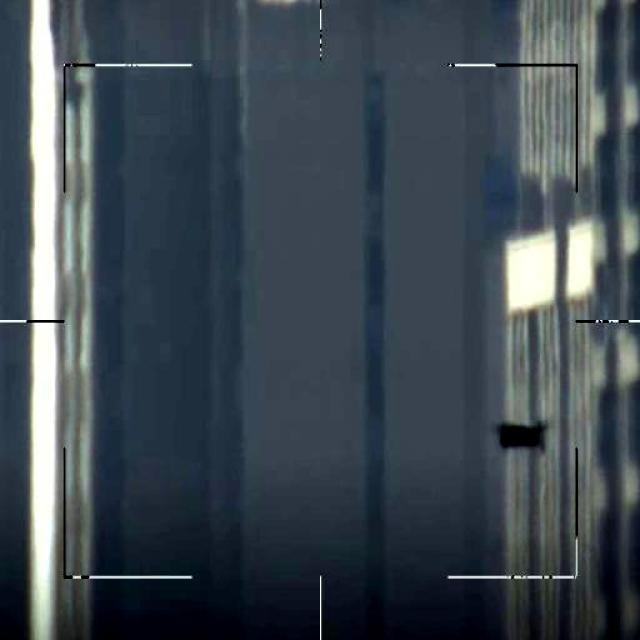bird: (496, 416, 549, 454)
